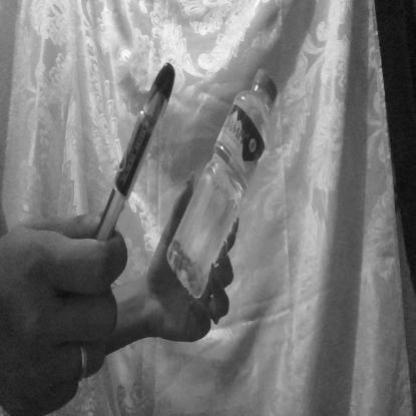Plastic Bottle: (188, 28, 281, 320)
